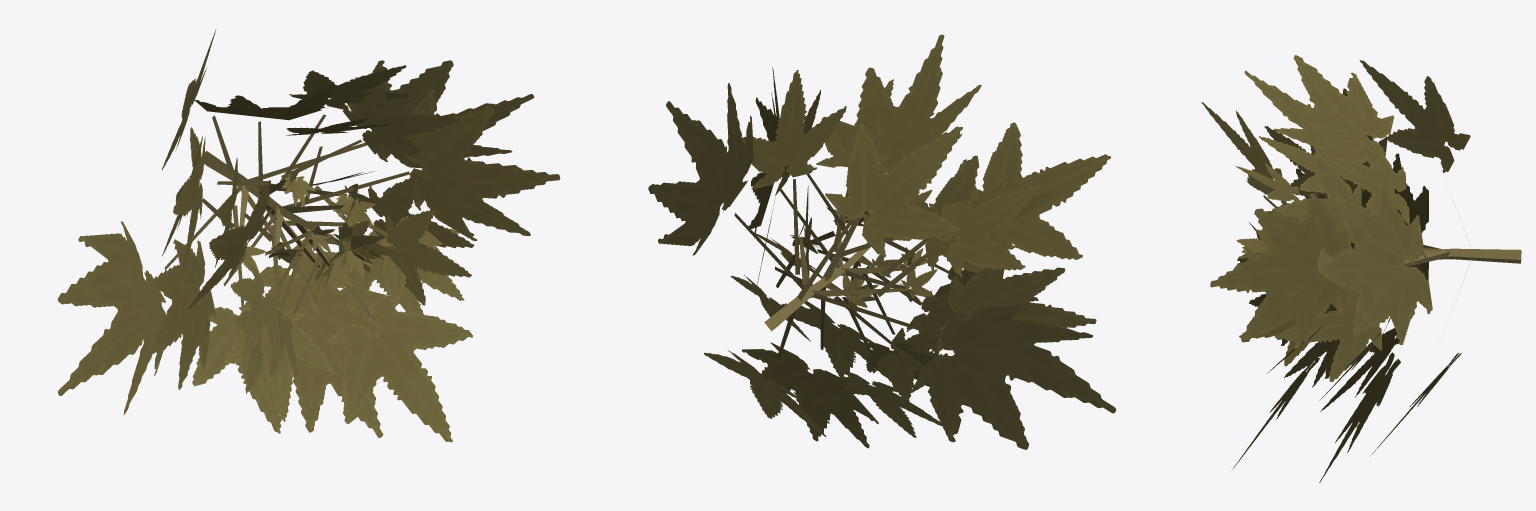
File: p_tree_vegetative_c2_cards.obj
3 renders of one model, left to right at view 1: azimuth 30°, elevation 25°; view 2: azimuth 150°, elevation 25°; view 3: azimuth 270°, elevation 25°, orthographic. The views are drawn at different scales.
Bounding box in the file's own units: 1.62 × 1.29 × 0.912.
1 material, 1 textured.
